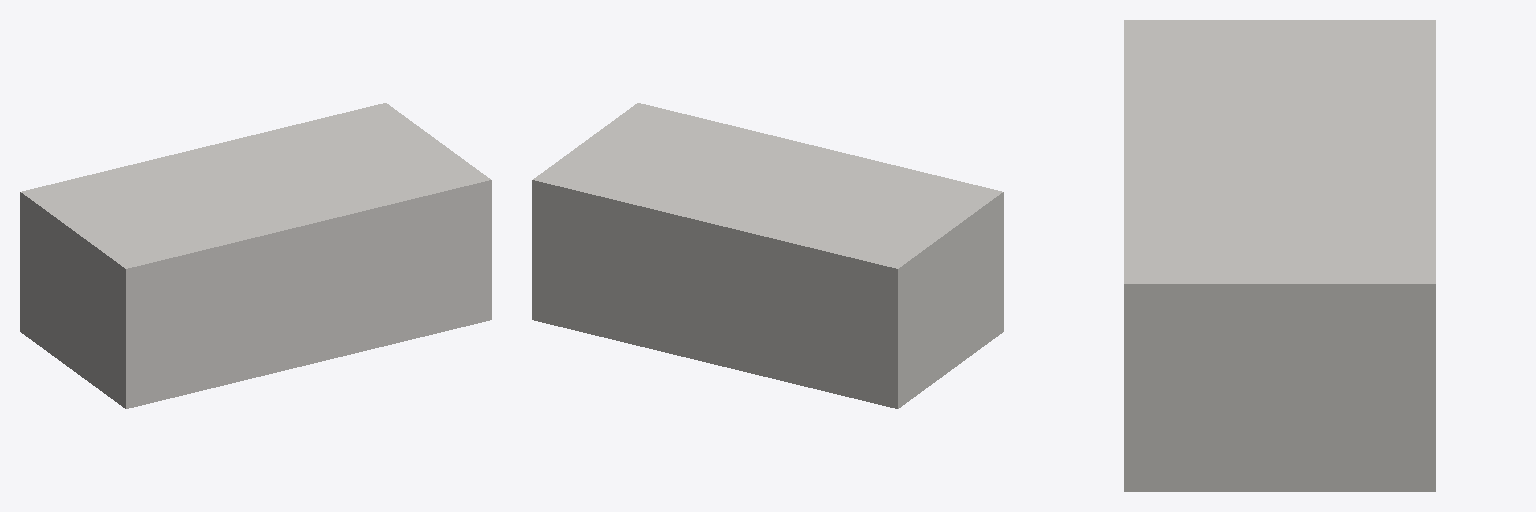
The robot description file, URDF, robot "staubli_tx200":
<?xml version="1.0" ?>
<robot name="staubli_tx200" xmlns:xacro="http://ros.org/wiki/xacro">
  <!-- RAL 1028 -->
  <!-- RAL 1018 -->
  <!-- RAL 9016 -->
  <!-- RAL 7043 -->
  <!-- links -->
  <link name="base_link">
    <visual>
      <origin rpy="0 3.141592653589793 0" xyz="0 0 3.920"/>
      <geometry>
        <mesh filename="meshes/staeubli_tx200/visual/base_link.dae"/>
      </geometry>
      <material name="">
        <color rgba="1.0 0.607843137255 0.0 1.0"/>
      </material>
    </visual>
  </link>
  <link name="link_1">
    <visual>
      <origin rpy="0 3.141592653589793 0" xyz="0 0 0"/>
      <geometry>
        <mesh filename="meshes/staeubli_tx200/visual/link_1.dae"/>
      </geometry>
      <material name="">
        <color rgba="1.0 0.607843137255 0.0 1.0"/>
      </material>
    </visual>
  </link>
  <link name="link_2">
    <visual>
      <origin rpy="0 3.141592653589793 0" xyz="0.25 0 0.642"/>
      <geometry>
        <mesh filename="meshes/staeubli_tx200/visual/link_2.dae"/>
      </geometry>
      <material name="">
        <color rgba="1.0 0.607843137255 0.0 1.0"/>
      </material>
    </visual>
  </link>
  <link name="link_3">
    <visual>
      <origin rpy="0 3.141592653589793 0" xyz="0.25 0 1.592"/>
      <geometry>
        <mesh filename="meshes/staeubli_tx200/visual/link_3.dae"/>
      </geometry>
      <material name="">
        <color rgba="1.0 0.607843137255 0.0 1.0"/>
      </material>
    </visual>
  </link>
  <link name="link_4">
    <visual>
      <origin rpy="0 3.141592653589793 0" xyz="0.25 0 1.592"/>
      <geometry>
        <mesh filename="meshes/staeubli_tx200/visual/link_4.dae"/>
      </geometry>
      <material name="">
        <color rgba="1.0 0.607843137255 0.0 1.0"/>
      </material>
    </visual>
  </link>
  <link name="link_5">
    <visual>
      <origin rpy="0 3.141592653589793 0" xyz="0.25 0 2.392"/>
      <geometry>
        <mesh filename="meshes/staeubli_tx200/visual/link_5.dae"/>
      </geometry>
      <material name="">
        <color rgba="0.529411764706 0.521568627451 0.505882352941 1.0"/>
      </material>
    </visual>
  </link>
  <link name="link_6">
    <visual>
      <origin rpy="0 3.141592653589793 0" xyz="0.25 0 2.392"/>
      <geometry>
        <mesh filename="meshes/staeubli_tx200/visual/link_6.dae"/>
      </geometry>
      <material name="">
        <color rgba="0.529411764706 0.521568627451 0.505882352941 1.0"/>
      </material>
    </visual>
  </link>
  <link name="detector">
    <visual>
      <origin rpy="0 3.141592653589793 0" xyz="0.25 0 2.392"/>
      <geometry>
        <box size= "0.3 0.15 0.11"/>
      </geometry>
      <material name="">
        <color rgba="0.829411764706 0.821568627451 0.805882352941 1.0"/>
      </material>
    </visual>
  </link>  <!-- joints -->
  <joint name="joint_1" type="revolute">
    <origin rpy="0 0 0" xyz="0 0 3.920"/>
    <parent link="base_link"/>
    <child link="link_1"/>
    <axis xyz="0 0 -1"/>
    <limit effort="692.0" lower="-2.967060" upper="2.967060" velocity="2.88"/>
    <dynamics damping="0.0" friction="0.0"/>
  </joint>
  <joint name="joint_2" type="revolute">
    <origin rpy="0 0 0" xyz="-0.25 0 -0.642"/>
    <parent link="link_1"/>
    <child link="link_2"/>
    <axis xyz="0 1 0"/>
    <limit effort="574.0" lower="-2.4" upper="2.4" velocity="2.62"/>
    <dynamics damping="0.0" friction="0.0"/>
  </joint>
  <joint name="joint_3" type="revolute">
    <origin rpy="0 0 0" xyz="0.0 0 -0.95"/>
    <parent link="link_2"/>
    <child link="link_3"/>
    <axis xyz="0 1 0"/>
    <limit effort="242.0" lower="-2.62" upper="2.62" velocity="3.32"/>
    <dynamics damping="0.0" friction="0.0"/>
  </joint>
  <joint name="joint_4" type="revolute">
    <origin rpy="0 0 0" xyz="0 0 0"/>
    <parent link="link_3"/>
    <child link="link_4"/>
    <axis xyz="0 0 -1"/>
    <limit effort="58.0" lower="-4.71" upper="4.71" velocity="5.15"/>
    <dynamics damping="0.0" friction="0.0"/>
  </joint>
  <joint name="joint_5" type="revolute">
    <origin rpy="0 0 0" xyz="0 0 -0.8"/>
    <parent link="link_4"/>
    <child link="link_5"/>
    <axis xyz="0 1 0"/>
    <limit effort="29.0" lower="-1.83" upper="2.09" velocity="4.54"/>
    <dynamics damping="0.0" friction="0.0"/>
  </joint>
  <joint name="joint_6" type="revolute">
    <origin rpy="0 0 0" xyz="0 0 0.0"/>
    <parent link="link_5"/>
    <child link="link_6"/>
    <axis xyz="0 0 -1"/>
    <limit effort="29.0" lower="-4.71" upper="4.71" velocity="7.68"/>
    <dynamics damping="0.0" friction="0.0"/>
  </joint>
  <joint name="joint_6-detetcor" type="fixed">
    <parent link="link_6"/>
    <child link="detector"/>
    <origin rpy="0 3.141592653589793 0" xyz=".25 0 2.15"/>
  </joint>
</robot>

--- What the picture shows (computed from the rendered views, not written in the file) ---
3 views of the same robot in one strip: view 1: azimuth 30°, elevation 25°; view 2: azimuth 150°, elevation 25°; view 3: azimuth 270°, elevation 25° (orthographic).
Robot: staubli_tx200 — 8 links, 7 joints (6 revolute, 1 fixed); root link base_link; default pose: all joints at 0.
Visible links, largest first — view 1: detector; view 2: detector; view 3: detector.
Link boxes in pixels (box(x1,y1,x2,y2)): detector: box(20, 103, 491, 408); detector: box(532, 103, 1003, 408); detector: box(1124, 20, 1435, 491).
Bounding box of the posed robot: 0.3 × 0.15 × 0.11 m (x, y, z).
0 mesh visuals loaded from 7 distinct referenced files (none loaded); not drawn: 7 (reference not matched to a file when rendering).